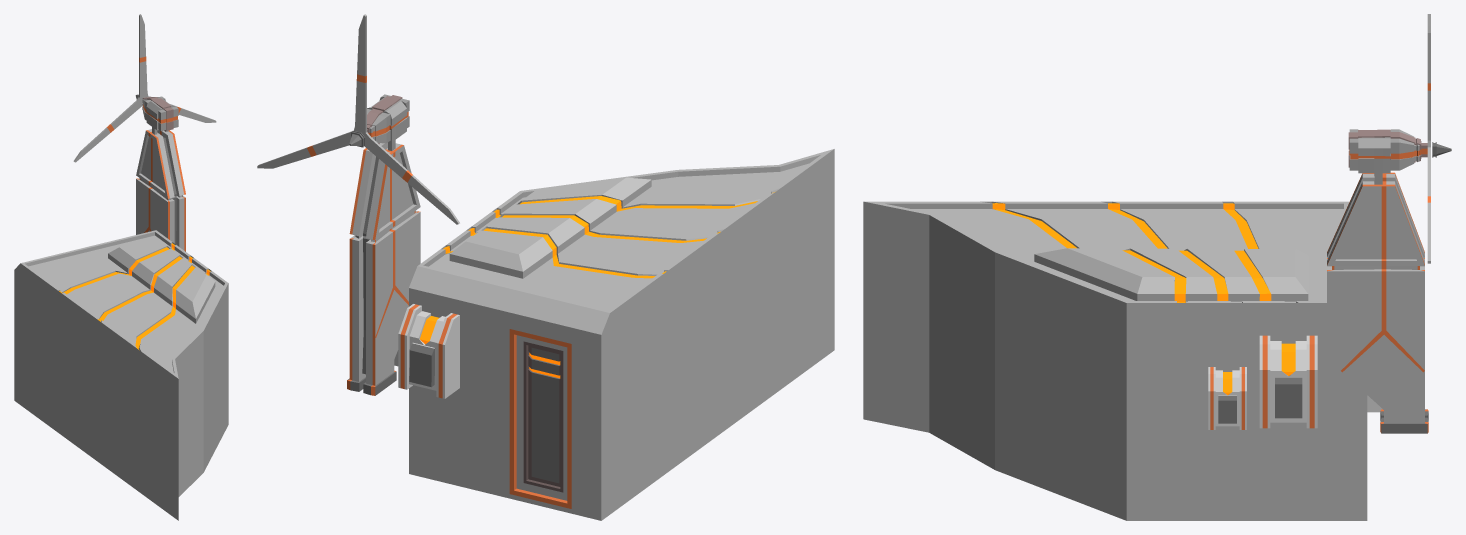
Rendered from WINDMILL.glb.
3 views of the same model, side by side, from view 1: azimuth 30°, elevation 25°; view 2: azimuth 150°, elevation 25°; view 3: azimuth 270°, elevation 25° (orthographic). The views are drawn at different scales.
Parts seen in each view (by area): view 1: Cube.243, Cube.241; view 2: Cube.243, Cube.241; view 3: Cube.243, Cube.241.
Part boxes in pixels (x1,y1,x2,y2): Cube.243: (14,96,228,520); Cube.241: (73,14,216,162); Cube.243: (347,94,834,520); Cube.241: (257,14,459,224); Cube.243: (863,129,1428,520); Cube.241: (1427,14,1451,263).
Bounding box in the file's own units: 5.23 × 7.57 × 7.83.
